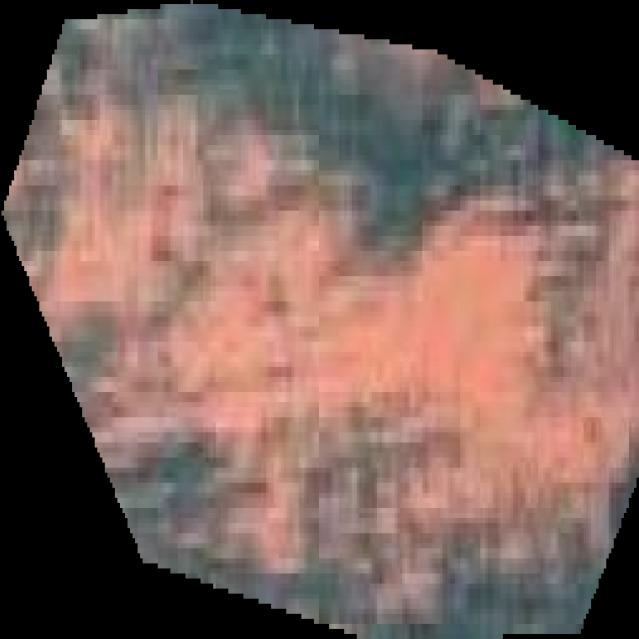Uniform Corrosion: (1, 1, 639, 639)
